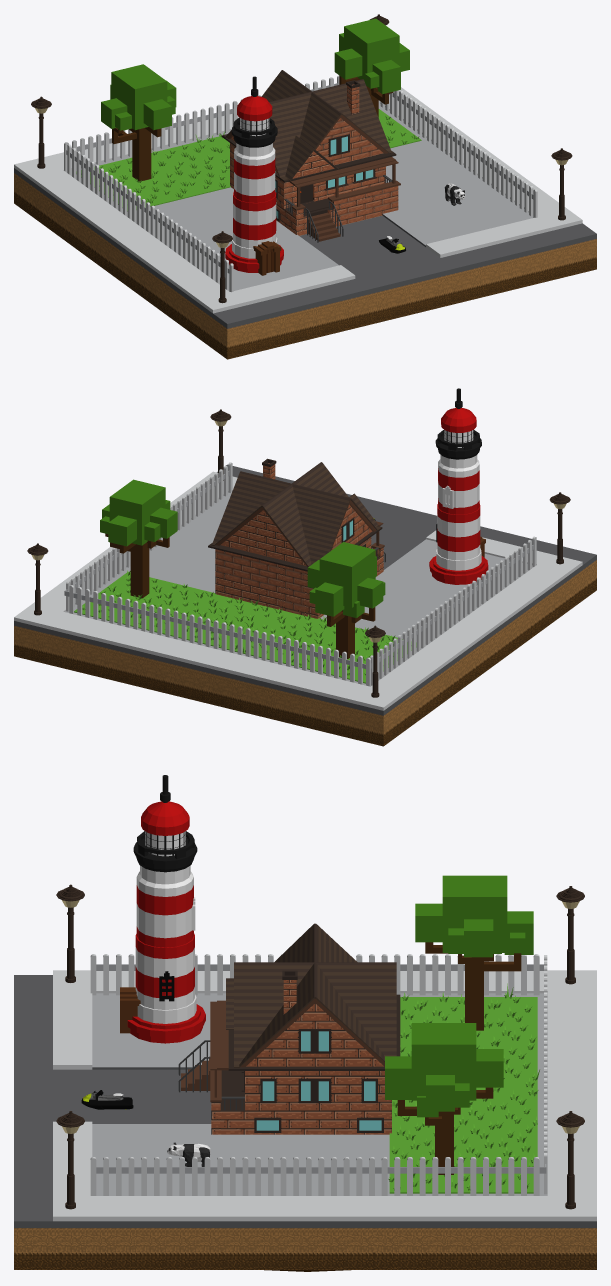
3 views of the same model, one above another, from view 1: azimuth 30°, elevation 25°; view 2: azimuth 150°, elevation 25°; view 3: azimuth 270°, elevation 25° (orthographic). The views are drawn at different scales.
Parts seen in each view (by area): view 1: Cube.004, Cube.469, OBJRANDOM_LIGHTHOUSE; view 2: Cube.004, Cube.469, OBJRANDOM_LIGHTHOUSE; view 3: Cube.004, Cube.469, OBJRANDOM_LIGHTHOUSE, VEHICLES_WATERBIKE, ANIMAL_PANDA.
Part boxes in pixels (<box>): Cube.004: <box>14,14,596,359</box>; Cube.469: <box>222,70,400,242</box>; OBJRANDOM_LIGHTHOUSE: <box>225,76,283,275</box>; Cube.004: <box>14,409,596,746</box>; Cube.469: <box>208,458,385,618</box>; OBJRANDOM_LIGHTHOUSE: <box>429,388,488,584</box>; Cube.004: <box>14,875,596,1269</box>; Cube.469: <box>178,923,400,1134</box>; OBJRANDOM_LIGHTHOUSE: <box>120,775,205,1043</box>; VEHICLES_WATERBIKE: <box>81,1090,133,1109</box>; ANIMAL_PANDA: <box>167,1142,210,1166</box>.
Size of the model in its own units: 4000 by 2435 by 4000.
31 materials, 4 textured.
